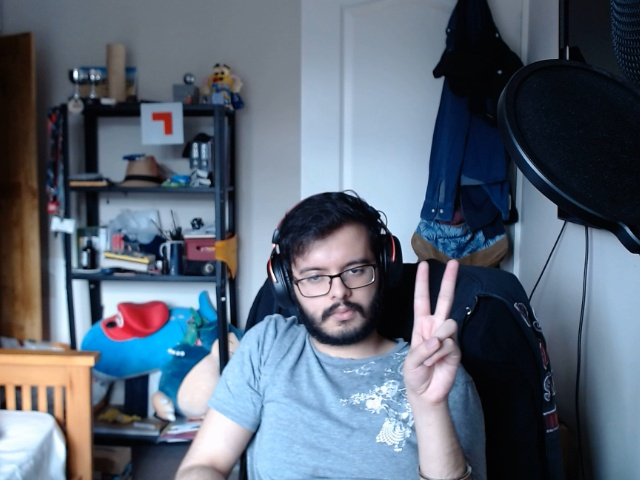Peace: (395, 253, 475, 402)
